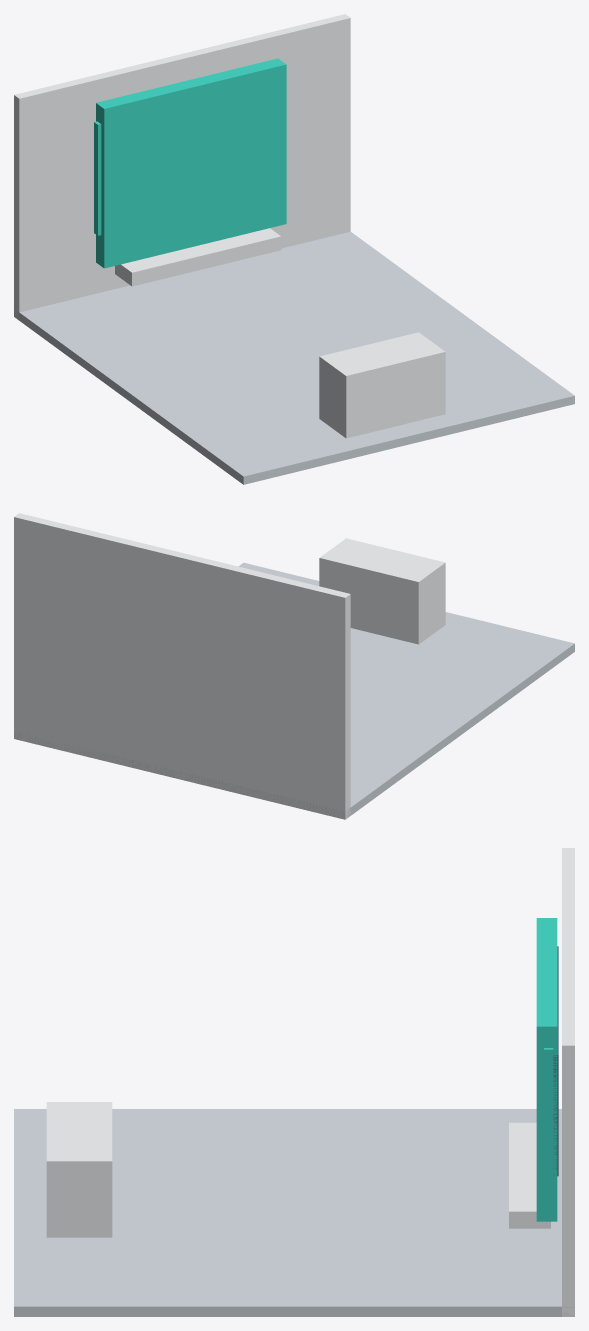
3 views of the same model, one above another, from view 1: azimuth 30°, elevation 25°; view 2: azimuth 150°, elevation 25°; view 3: azimuth 270°, elevation 25° (orthographic). The views are drawn at different scales.
Visible parts, largest first — view 1: Exhibition Booth Concept; view 2: Exhibition Booth Concept; view 3: Exhibition Booth Concept.
Part boxes in pixels (x1,y1,x2,y2): Exhibition Booth Concept: (14,14,574,484); Exhibition Booth Concept: (14,513,574,819); Exhibition Booth Concept: (14,848,574,1316).
Bounding box in the file's own units: 5 × 3.2 × 6.
